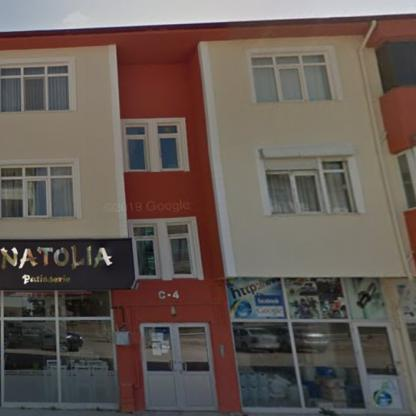door: (143, 326, 214, 407), (354, 321, 403, 411)
window: (3, 292, 118, 404), (231, 323, 364, 409), (263, 158, 354, 212), (250, 52, 334, 102), (0, 166, 74, 216), (0, 64, 70, 112), (132, 222, 194, 276), (124, 124, 180, 170), (376, 40, 415, 92), (396, 154, 416, 208)
